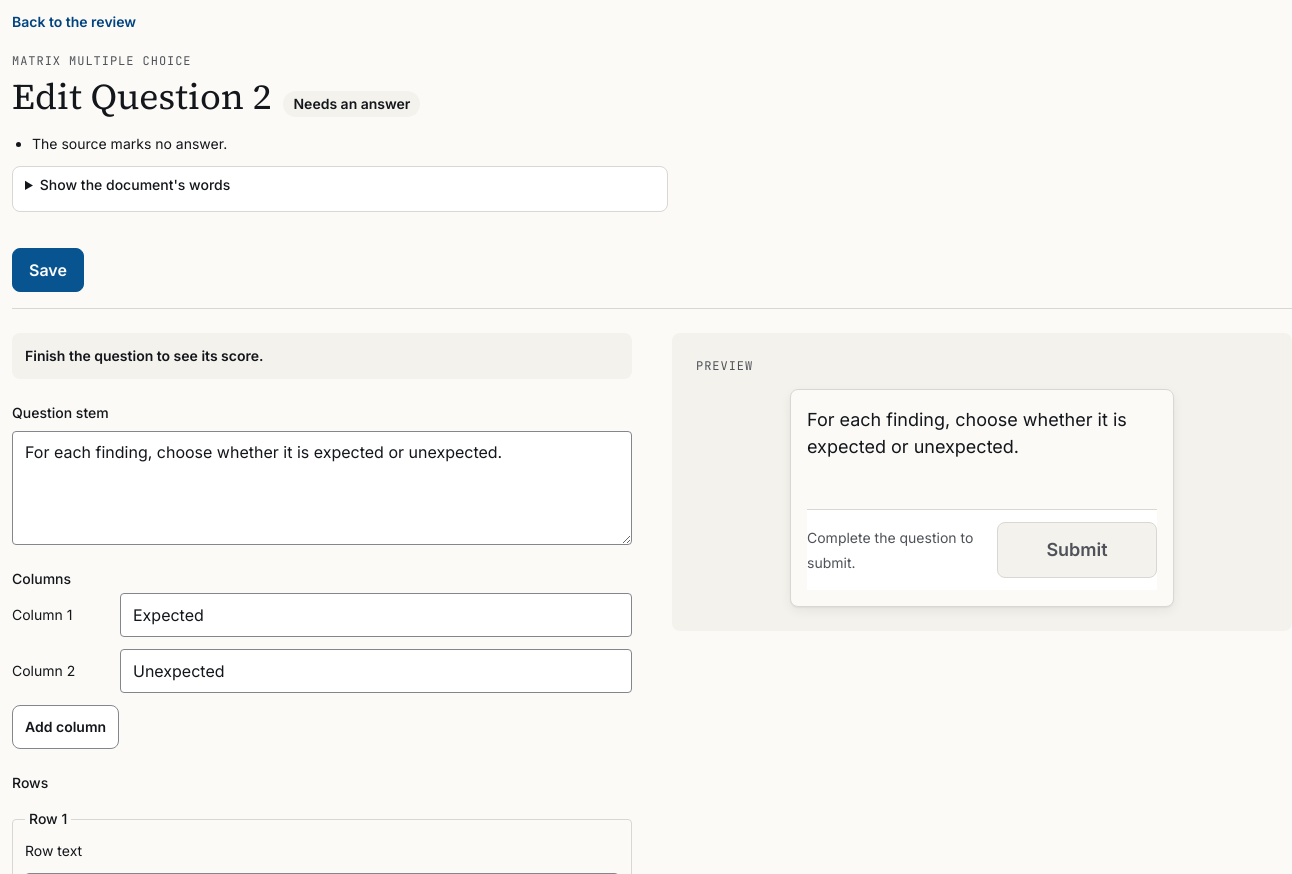
Test: AiImportEntryEditor › says what still stands when a save leaves the question short of ready
Click the button "Save" at (48, 270), box [12,248,84,292]
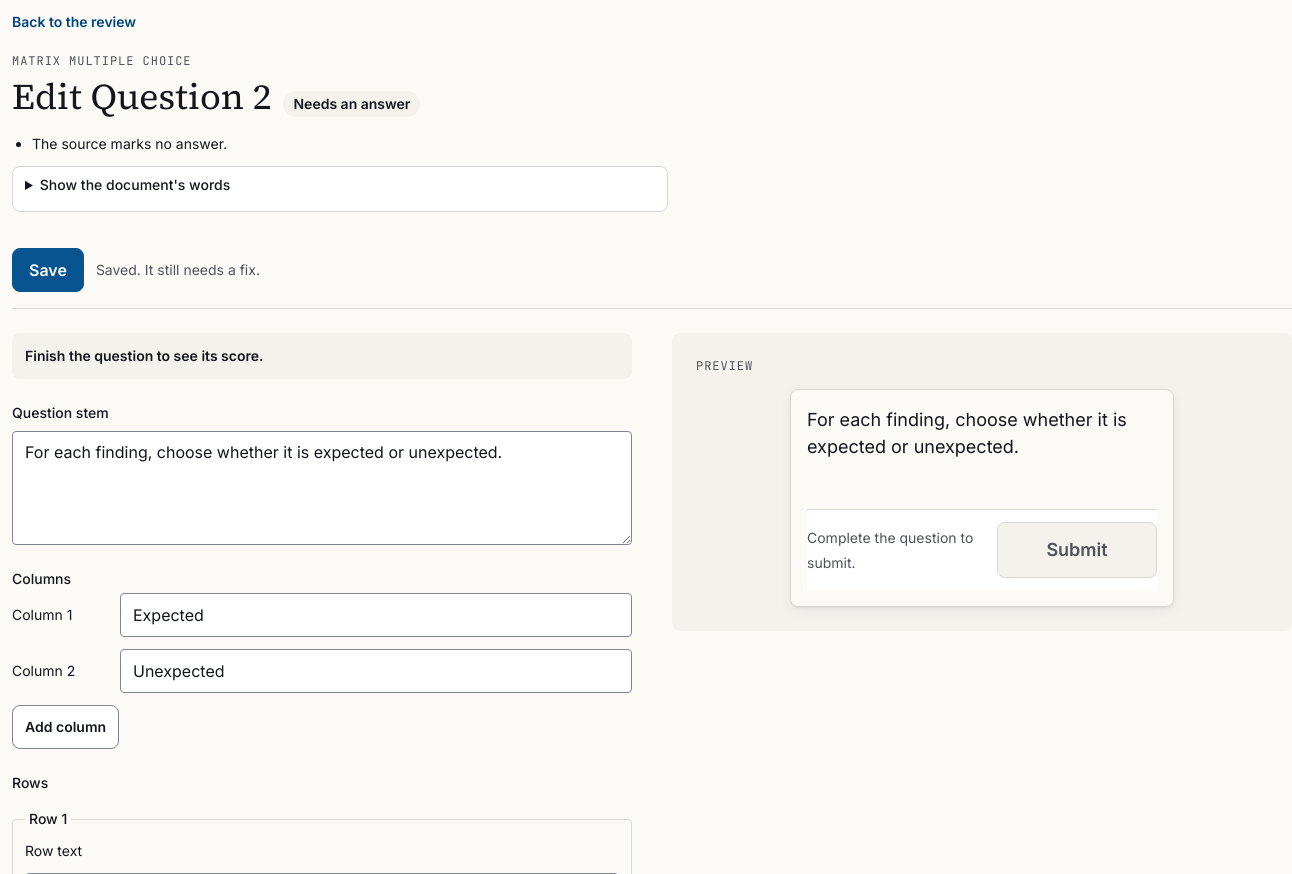
Expected: the message reads "Saved. It still needs a fix.", [96,261,260,278]
